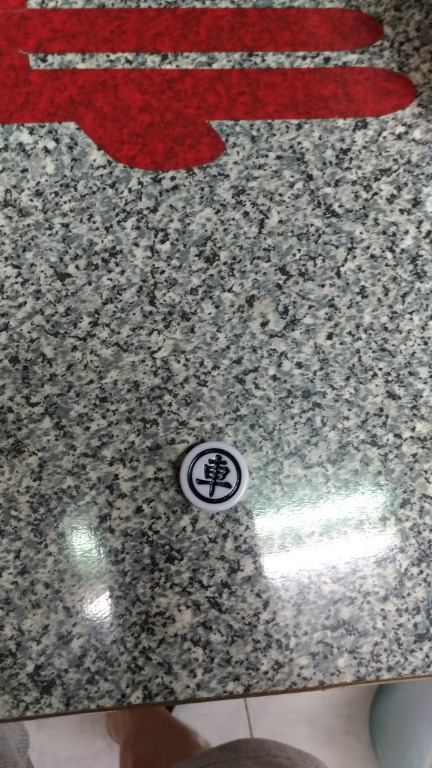b-king: (172, 429, 270, 529)
